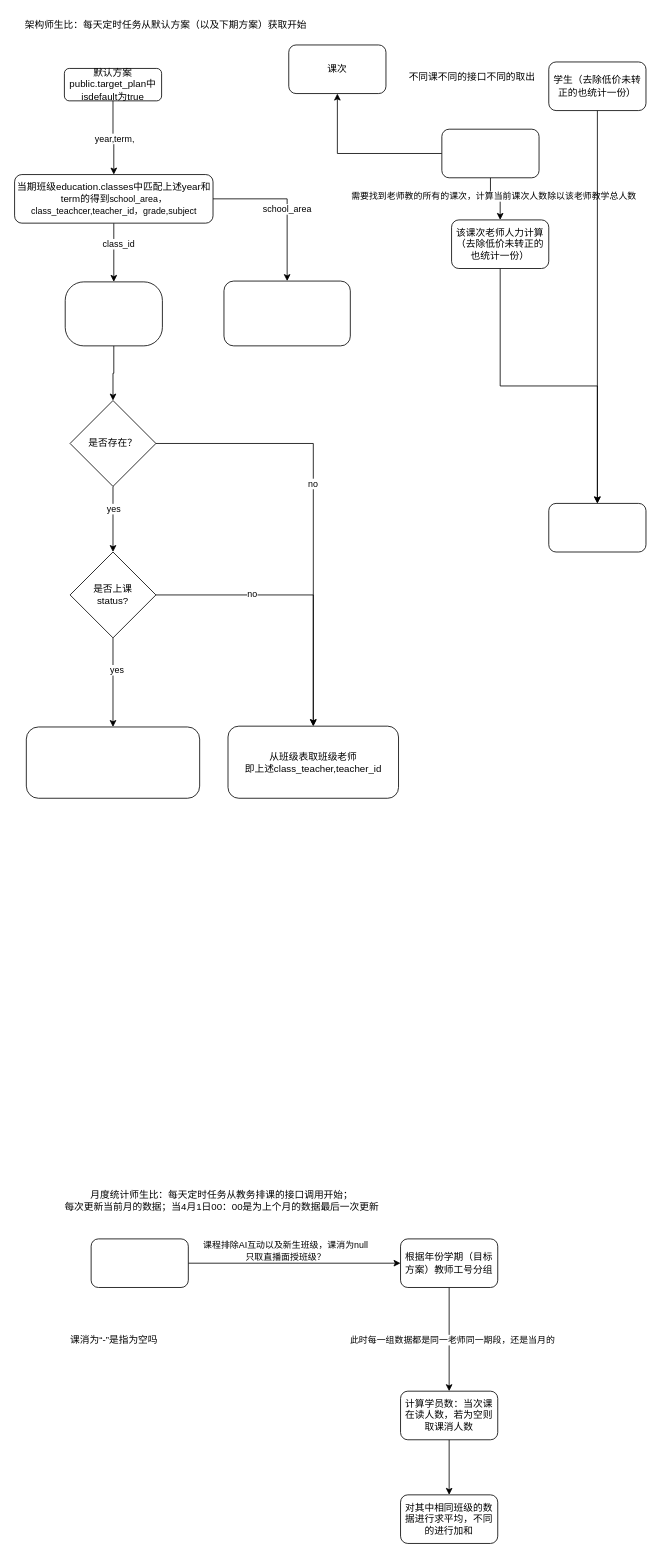
The diagram is 660 pixels wide and 1558 high, and some of its shapes have lost their labels. The centre of each missing label's shape, as x and y in pixels:
从user.department中通过parent_id一路向上拿到大区，区域id: the point at 286,313
取课次表上课老师( 取最新？何为最新 )class_teacher,class_teacher_id: the point at 113,762
师生比明细（去除低价未转正的也统计一份）: the point at 597,527
当期课次 education.class_schedule 中匹配上述class_id: the point at 113,313
接口调用：教务-排课（条件：小组课与小班课已上课，当月）: the point at 139,1262
课次老师: the point at 490,153
